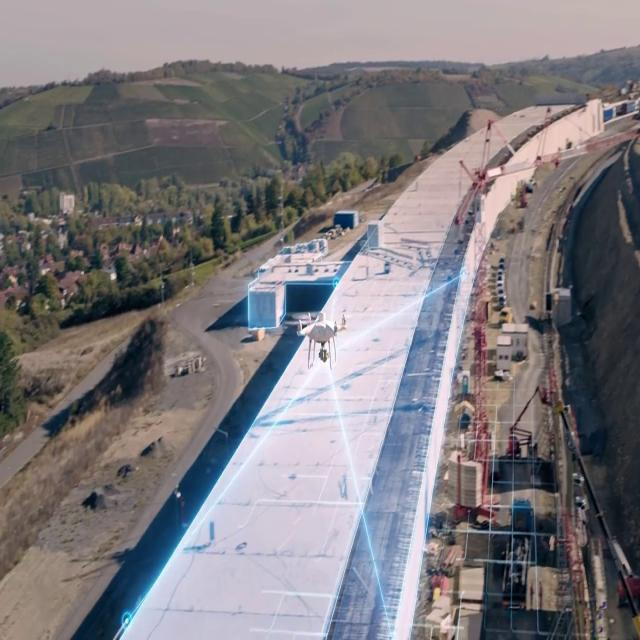drone: (296, 306, 350, 369)
